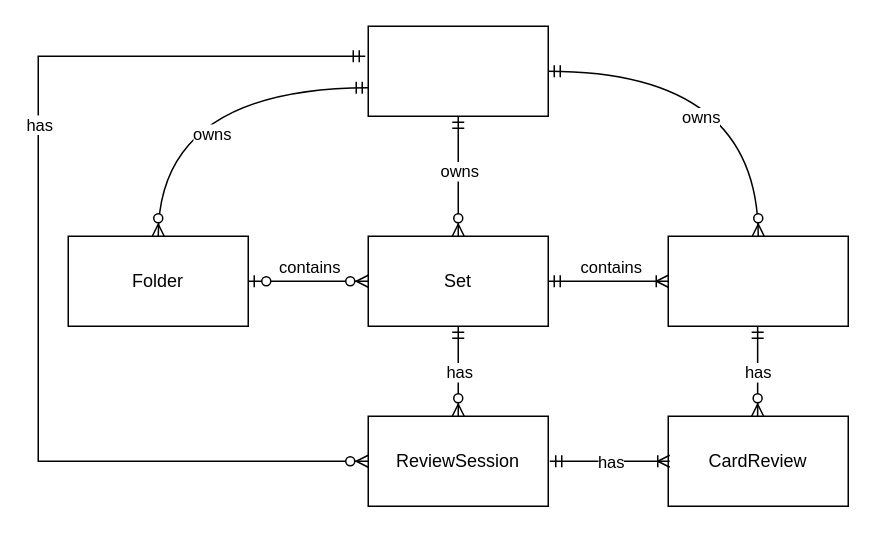
The diagram is 875 pixels wide and 533 high, and some of its shapes have lost their labels. Each missing label, with the centre of its shape:
"Card" goes at point (757, 280).
"User" goes at point (457, 70).
